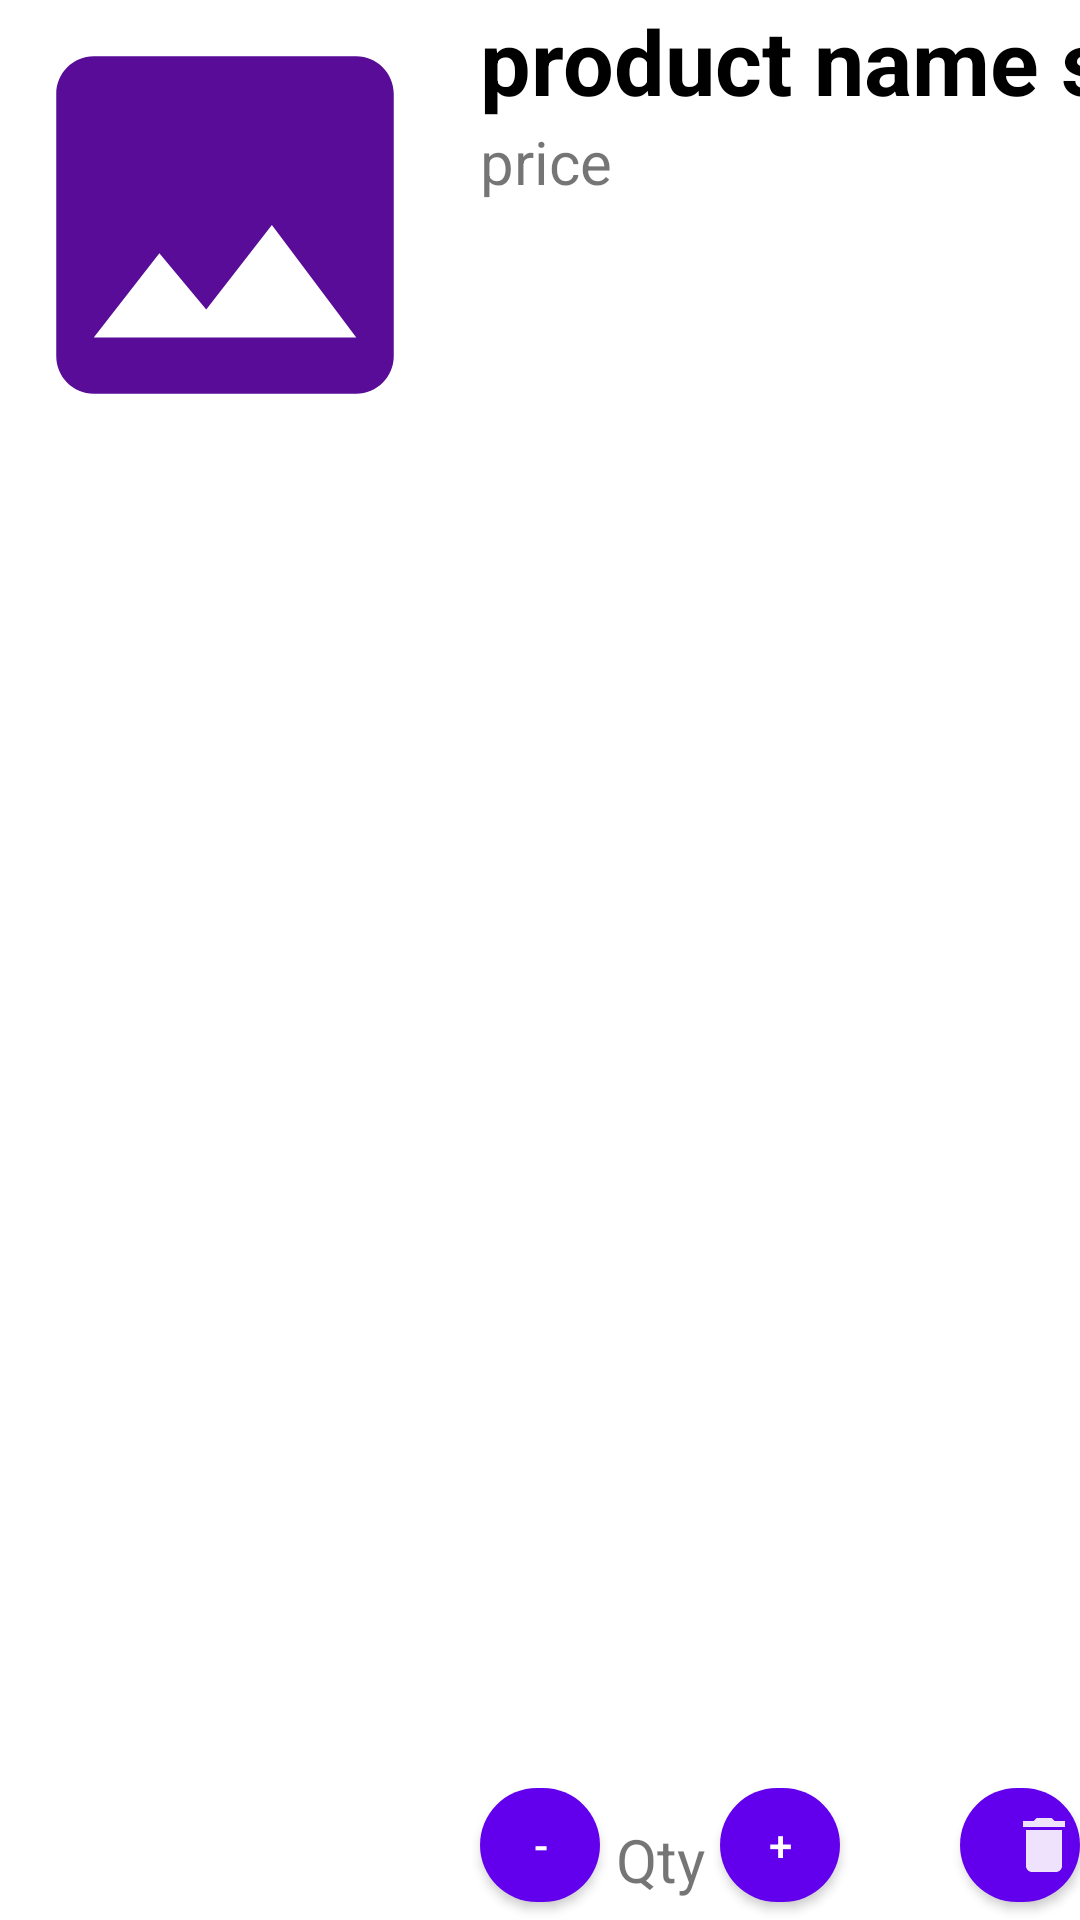

Named icons in this screenshot (1080 × 1920) and their bounding boxes, [x1, y1, x2, y2]:
delete: [960, 1788, 1080, 1908]
